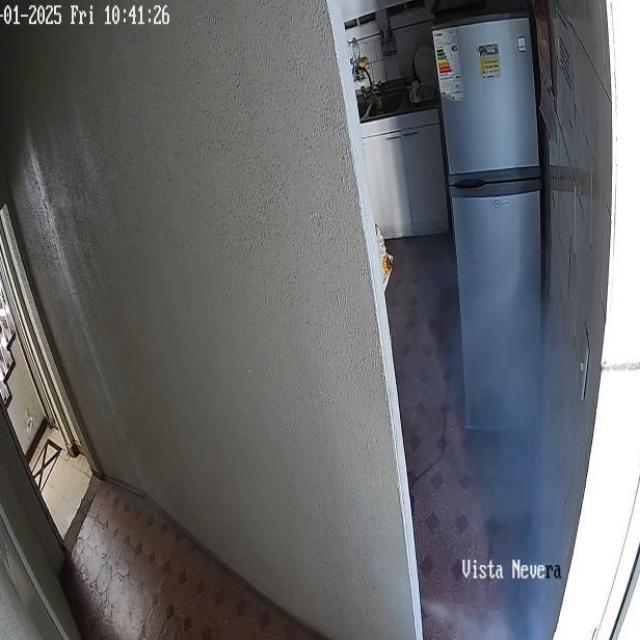fire: (408, 230, 579, 640)
